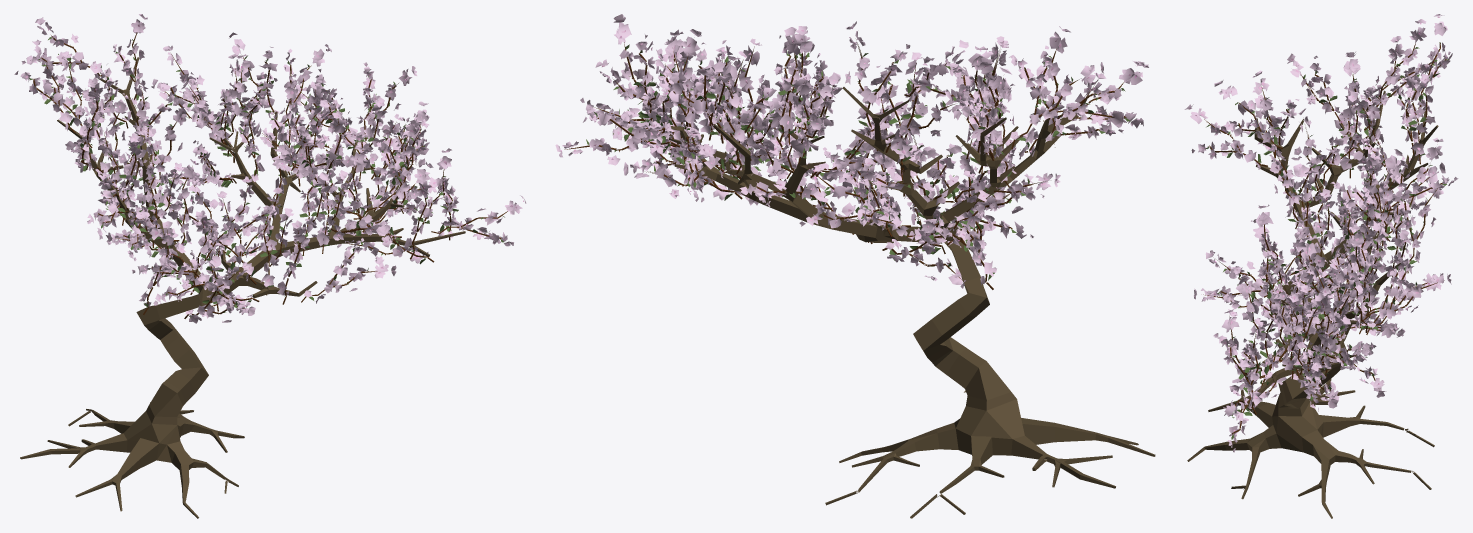
Rendered from sakura2.glb.
3 views of the same model, side by side, from view 1: azimuth 30°, elevation 25°; view 2: azimuth 150°, elevation 25°; view 3: azimuth 270°, elevation 25° (orthographic). The views are drawn at different scales.
Visible parts, largest first — view 1: Cube_008_0; view 2: Cube_008_0; view 3: Cube_008_0.
Part boxes in pixels (box(x1,y1,x2,y2)): Cube_008_0: box(14, 14, 526, 518); Cube_008_0: box(555, 14, 1155, 518); Cube_008_0: box(1184, 14, 1458, 518).
Size of the model in its own units: 7.22 by 6.41 by 3.67.
Materials: 4 (1 with a texture image).
